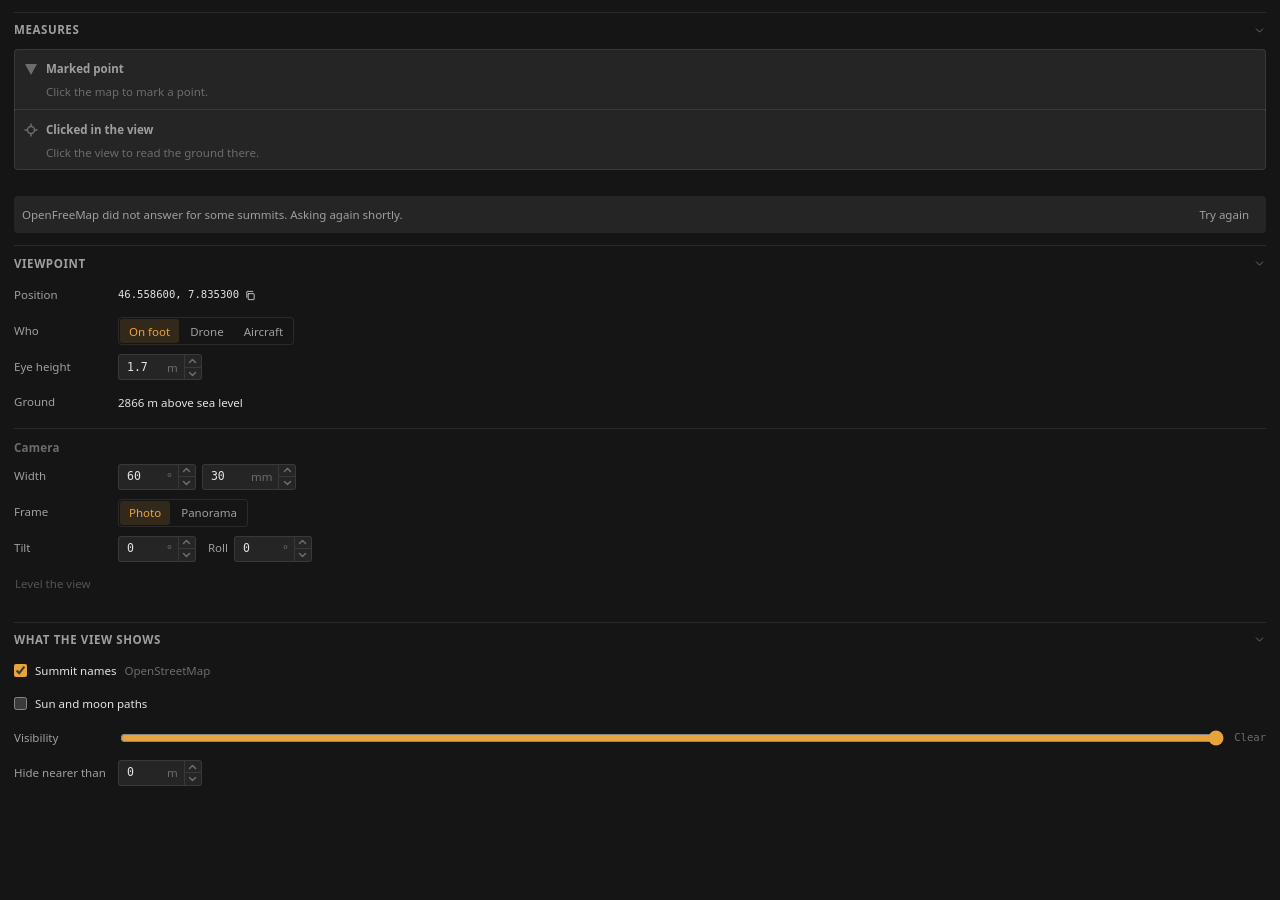
Test: the Horizon inspector › says quietly that some summits are missing while the app asks again by itself
Expected: the message "OpenFreeMap did not answer for some summits. Asking again shortly. Try again" is shown, [14,196,1266,233]
Click the button "Try again" at (1224,215), box [1190,202,1258,227]
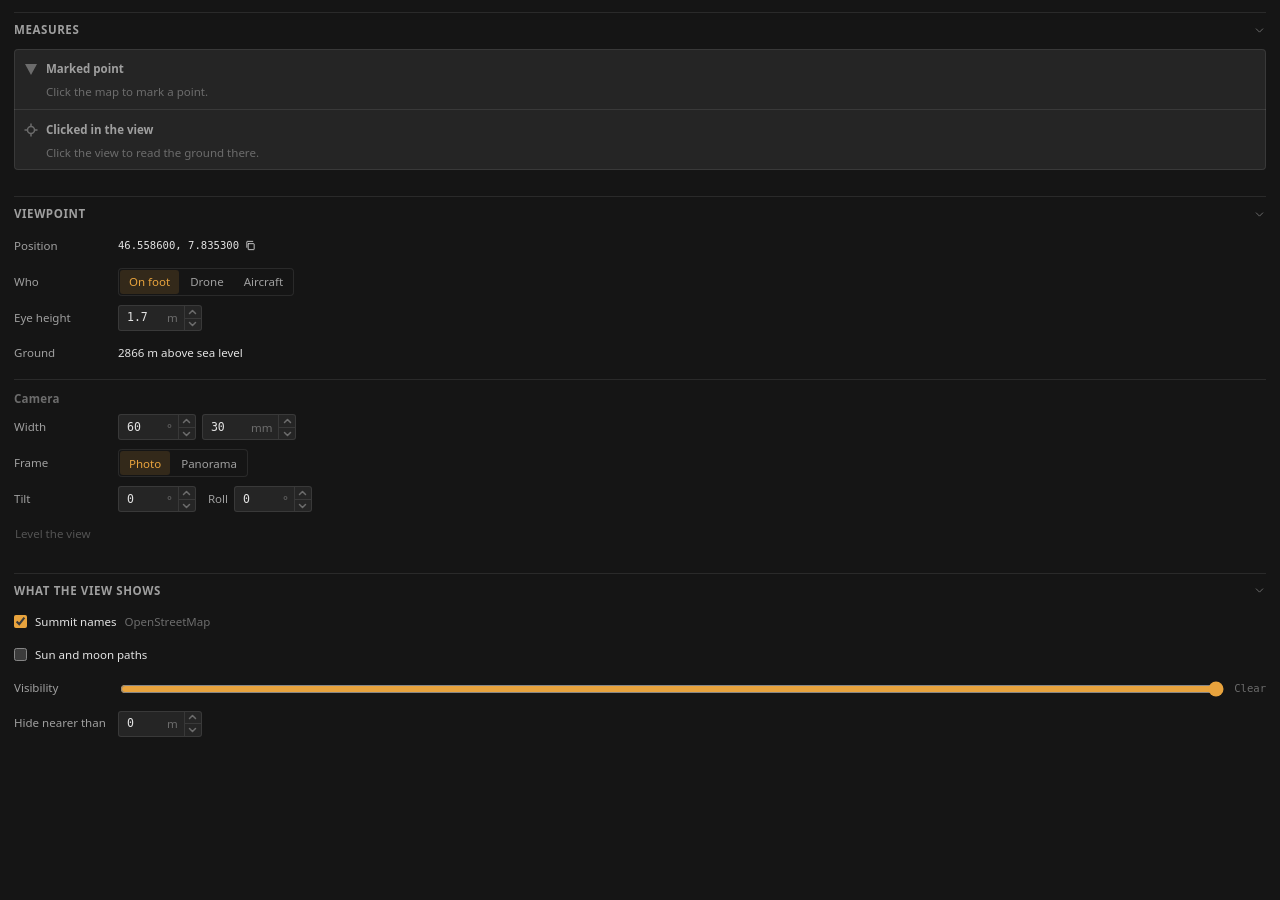
Result: the message "OpenFreeMap did not answer for some summits. Asking again shortly. Try again" is gone
